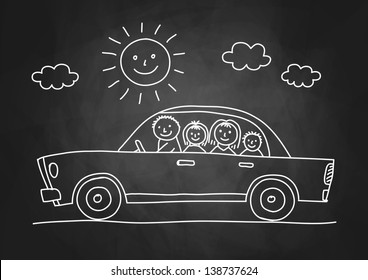car: (28, 103, 343, 220)
sun: (98, 19, 186, 104)
